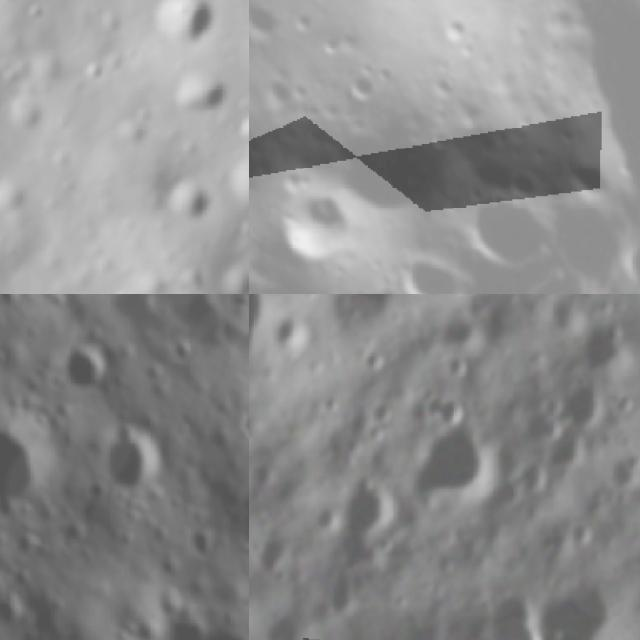crater: (265, 167, 385, 278), (452, 179, 556, 277), (0, 410, 57, 521), (100, 423, 178, 498), (412, 428, 490, 502), (540, 579, 626, 640), (144, 0, 225, 56), (162, 60, 232, 122), (384, 243, 463, 294), (153, 171, 215, 231), (480, 588, 547, 640), (65, 336, 111, 405), (576, 323, 631, 372), (271, 312, 317, 364), (340, 61, 386, 110), (342, 482, 382, 536), (256, 532, 294, 580), (547, 432, 591, 472), (249, 0, 286, 47), (225, 155, 249, 221), (555, 391, 600, 425), (0, 554, 39, 592), (185, 525, 219, 561), (166, 613, 211, 640), (0, 591, 32, 628), (80, 478, 119, 508), (217, 258, 249, 294), (251, 458, 277, 497), (613, 456, 640, 493), (611, 388, 640, 422), (518, 462, 540, 499), (442, 359, 468, 382), (314, 510, 338, 534), (0, 294, 27, 315), (573, 524, 592, 552), (364, 424, 386, 448), (377, 533, 399, 557), (318, 396, 340, 419), (361, 352, 384, 373), (368, 403, 394, 421), (46, 294, 69, 312), (52, 371, 66, 398), (235, 414, 249, 440), (236, 330, 249, 358), (391, 590, 408, 611)
